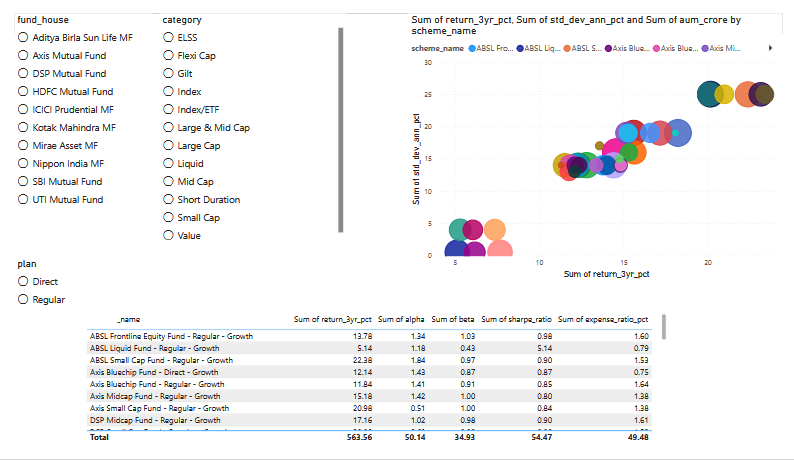

The page's visual inventory and layout, read from the dashboard file:
{"tool":"powerbi","page":{"name":"Fund Performance","canvas":[1280,720],"ordinal":1},"visuals":[{"type":"scatterChart","fields":{"X":["Sum(scheme_performance_clean.return_3yr_pct)"],"Y":["Sum(scheme_performance_clean.std_dev_ann_pct)"],"Size":["Sum(scheme_performance_clean.aum_crore)"],"Series":["scheme_performance_clean.scheme_name"]},"box":[656.7,0,623.3,446.7],"z":0},{"type":"tableEx","fields":{"Values":["scheme_performance_clean.scheme_name","Sum(scheme_performance_clean.return_3yr_pct)","Sum(scheme_performance_clean.alpha)","Sum(scheme_performance_clean.beta)","Sum(scheme_performance_clean.sharpe_ratio)","Sum(scheme_performance_clean.expense_ratio_pct)"]},"box":[115,495,976.7,225],"z":1000},{"type":"listSlicer","fields":{"Values":["scheme_performance_clean.fund_house"]},"box":[0,0,230,328.3],"z":2000},{"type":"listSlicer","fields":{"Values":["scheme_performance_clean.category"]},"box":[241.7,0,311.7,381.7],"z":3000},{"type":"listSlicer","fields":{"Values":["scheme_performance_clean.plan"]},"box":[0,406.7,173.3,108.3],"z":4000}]}

Visuals, with their boxes in screenshot pixels (x1, y1, x2, y2), scaled from the page's 1280x720 canvas onto the 794x460 screenshot:
scatterChart - Sum(scheme_performance_clean.return_3yr_pct) x Sum(scheme_performance_clean.std_dev_ann_pct): locate(407, 0, 793, 285)
tableEx - scheme_performance_clean.scheme_name x Sum(scheme_performance_clean.return_3yr_pct): locate(71, 316, 677, 459)
listSlicer - scheme_performance_clean.fund_house: locate(0, 0, 143, 210)
listSlicer - scheme_performance_clean.category: locate(150, 0, 343, 244)
listSlicer - scheme_performance_clean.plan: locate(0, 260, 108, 329)
